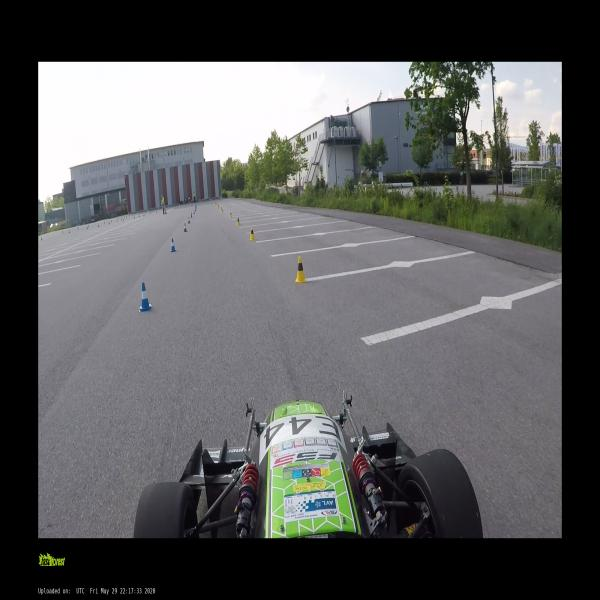blue_cone: (138, 283, 151, 311), (169, 238, 176, 252), (183, 223, 187, 232), (187, 216, 190, 224), (190, 212, 192, 219)
yellow_cone: (295, 255, 307, 282), (249, 226, 256, 241), (236, 217, 240, 226), (228, 211, 232, 218), (221, 208, 225, 214), (219, 206, 222, 211), (217, 204, 219, 209), (220, 207, 222, 212), (215, 202, 217, 207)
